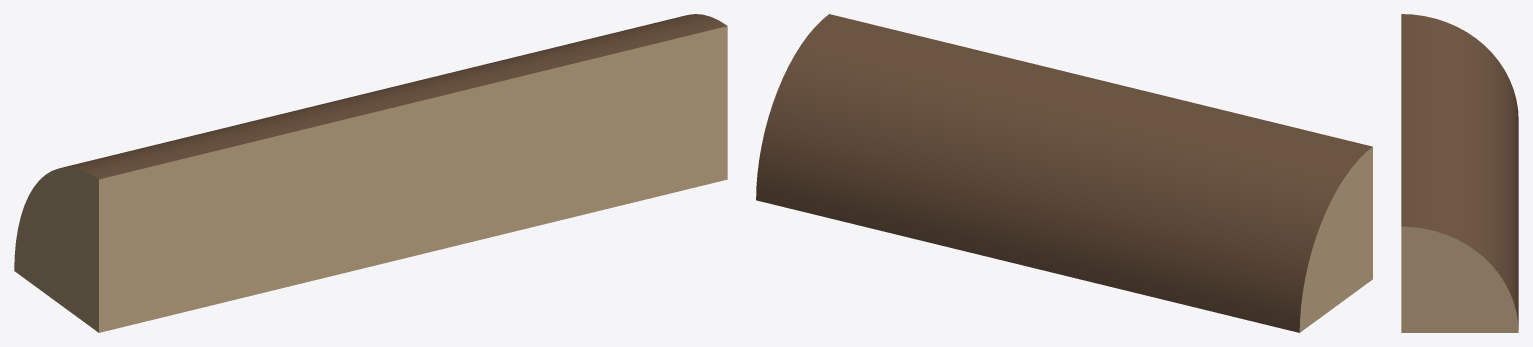
The model's file is SM_RawLog_75_Quarter_04.fbx.
3 renders of one model, left to right at view 1: azimuth 30°, elevation 25°; view 2: azimuth 150°, elevation 25°; view 3: azimuth 270°, elevation 25°, orthographic. The views are drawn at different scales.
Visible parts, largest first — view 1: RawLog_75_Quarter_04; view 2: RawLog_75_Quarter_04; view 3: RawLog_75_Quarter_04.
Part boxes in pixels (x1,y1,x2,y2): RawLog_75_Quarter_04: [14, 14, 727, 332]; RawLog_75_Quarter_04: [756, 14, 1372, 332]; RawLog_75_Quarter_04: [1401, 14, 1518, 332].
Size of what is drawn, in the model's own units: 0.75 by 0.175 by 0.175.
